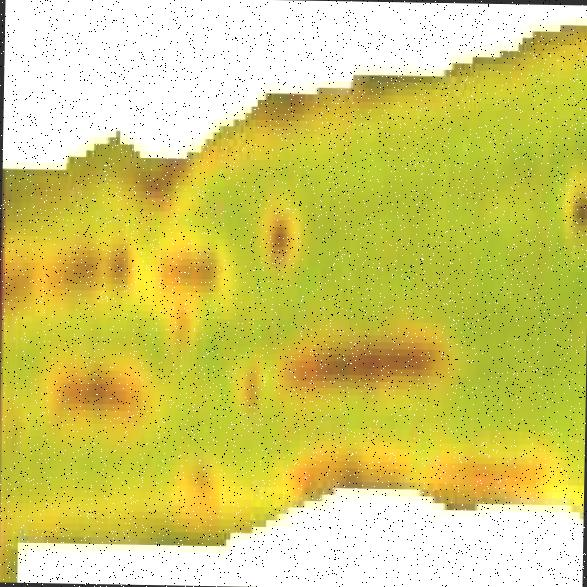Brown_Spot: (39, 302, 168, 444), (0, 235, 227, 299), (280, 320, 452, 376), (246, 160, 318, 274), (560, 125, 587, 265), (238, 326, 259, 406)
